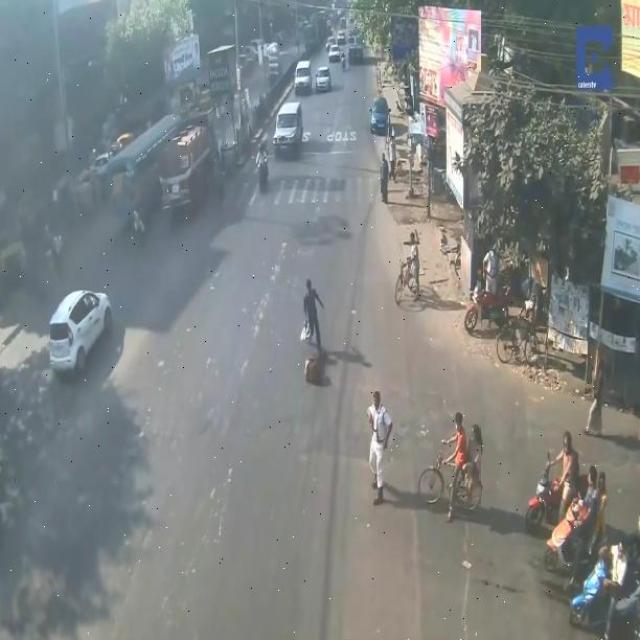accident: (301, 336, 335, 396)
